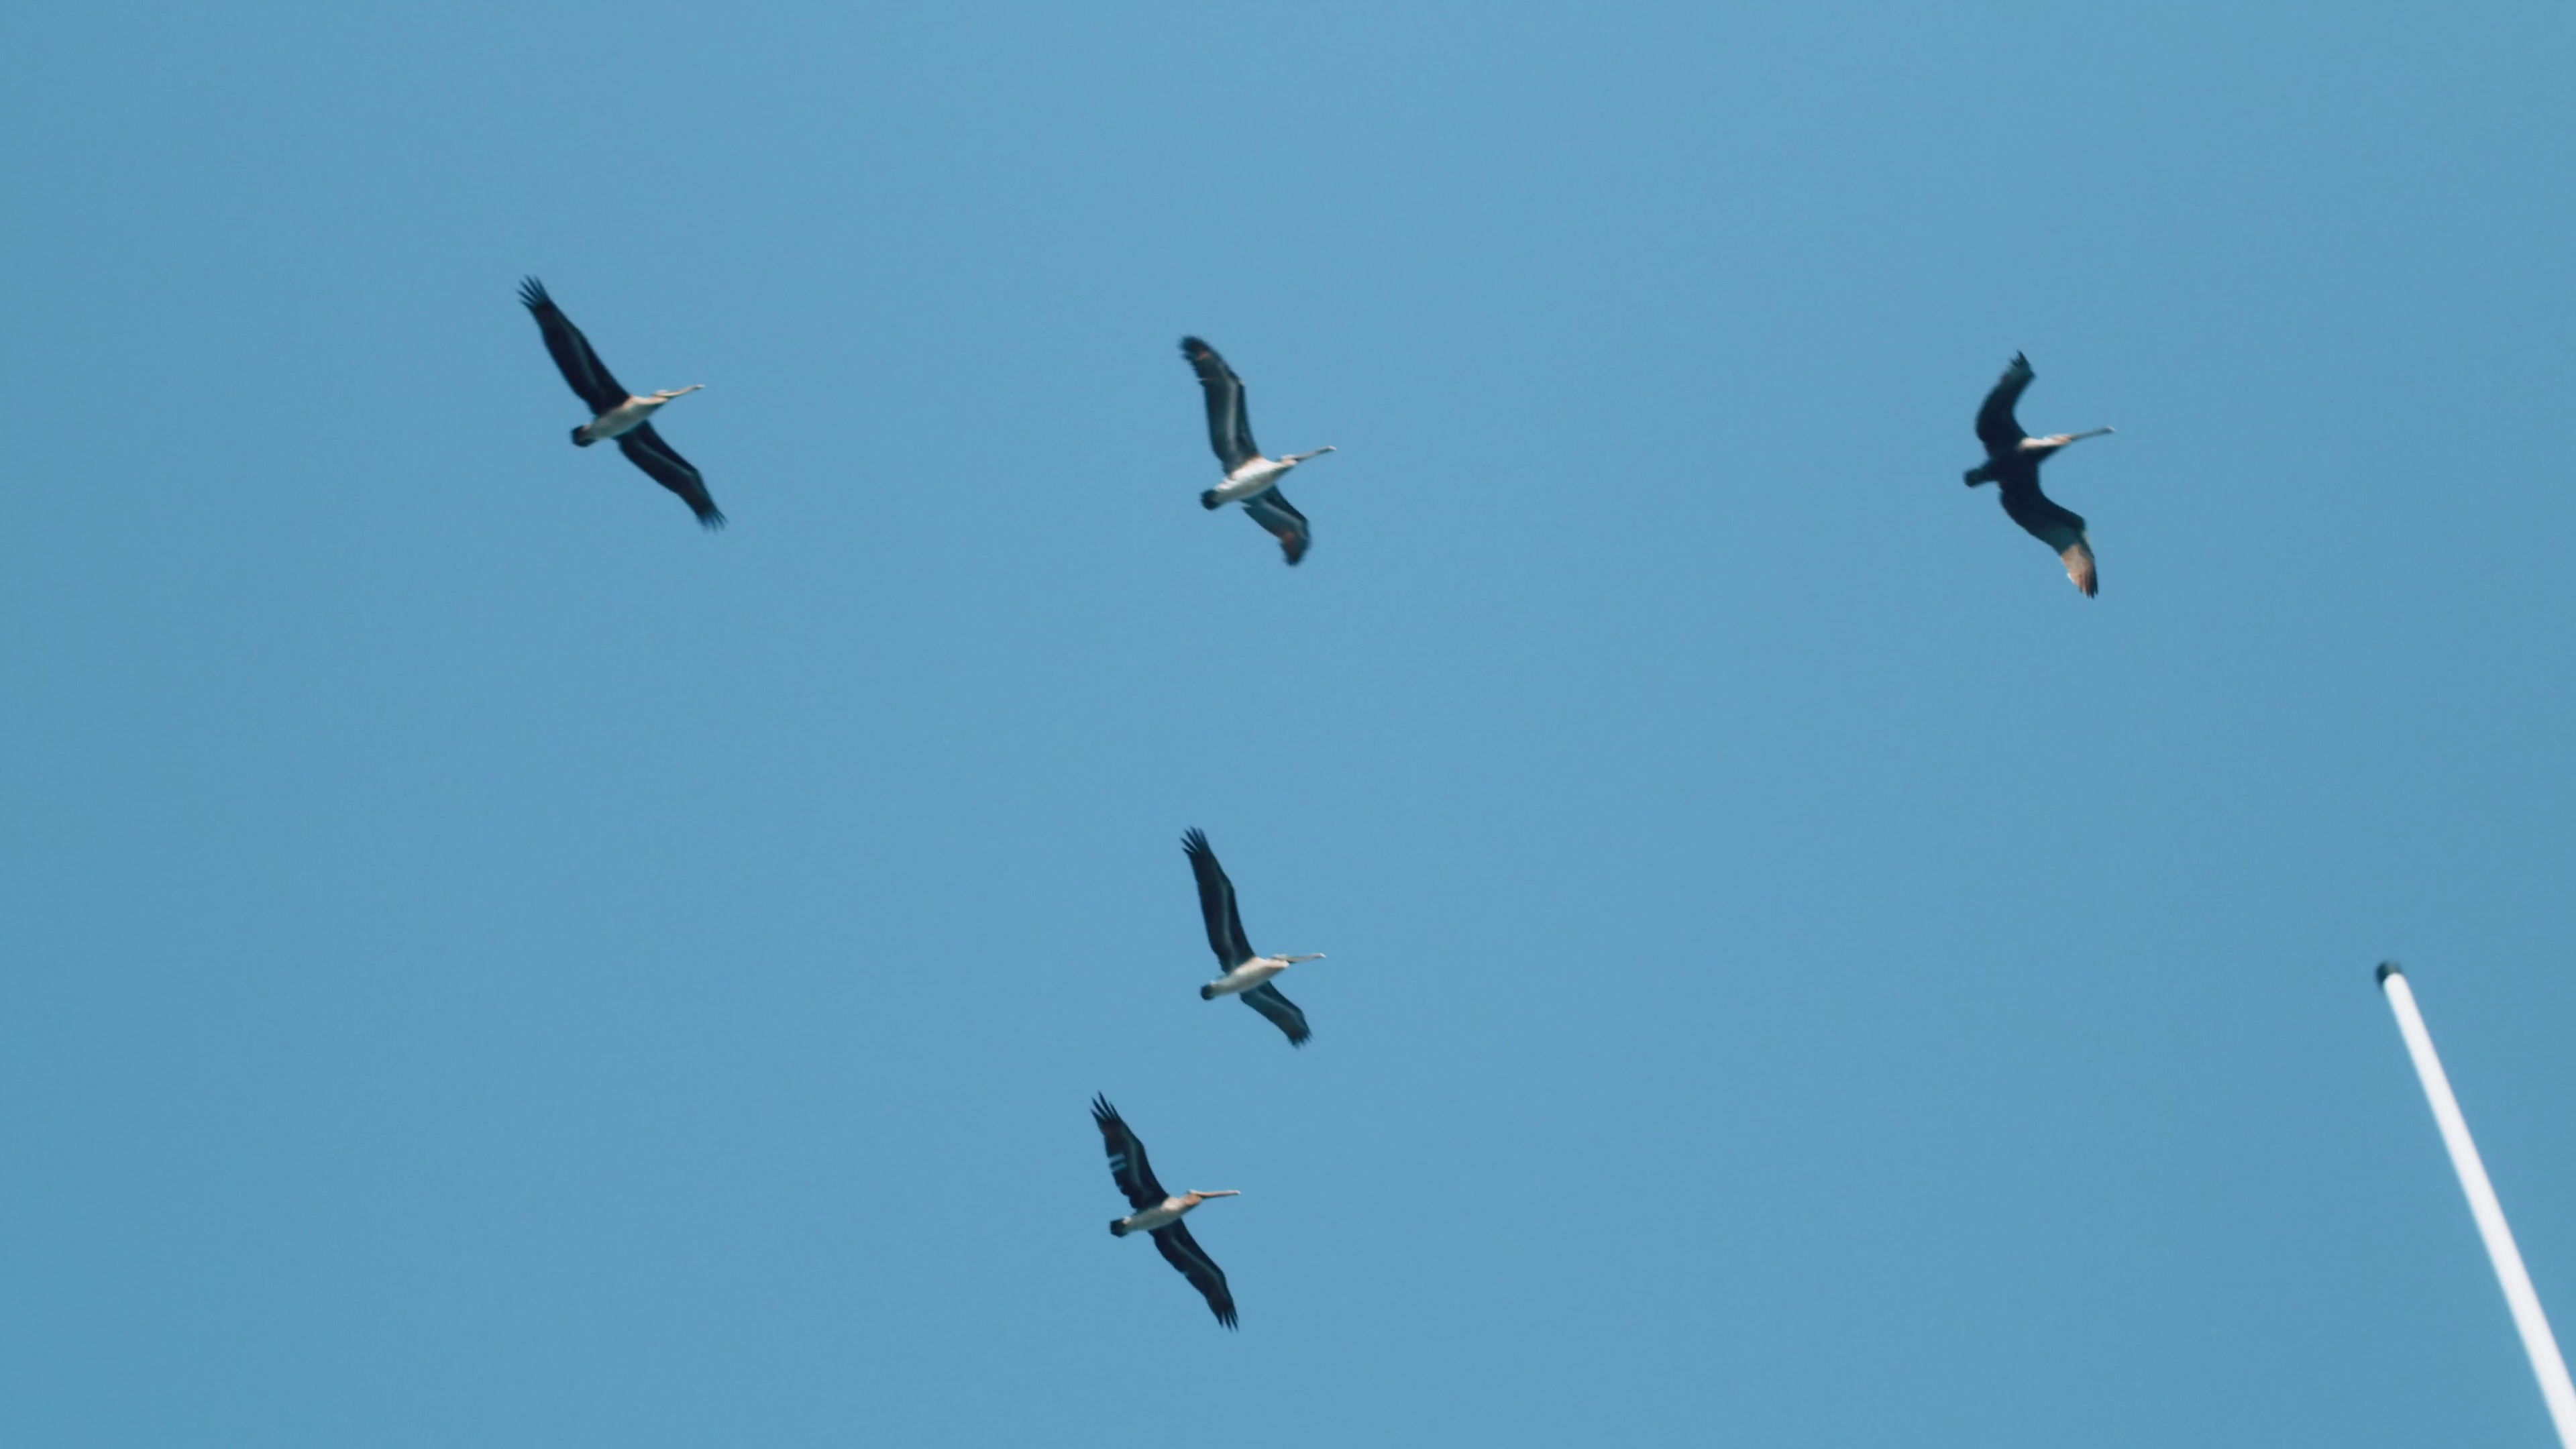bird: (520, 276, 722, 527), (1957, 349, 2112, 596), (1178, 333, 1336, 577), (1169, 819, 1330, 1051), (1092, 1083, 1240, 1327)
